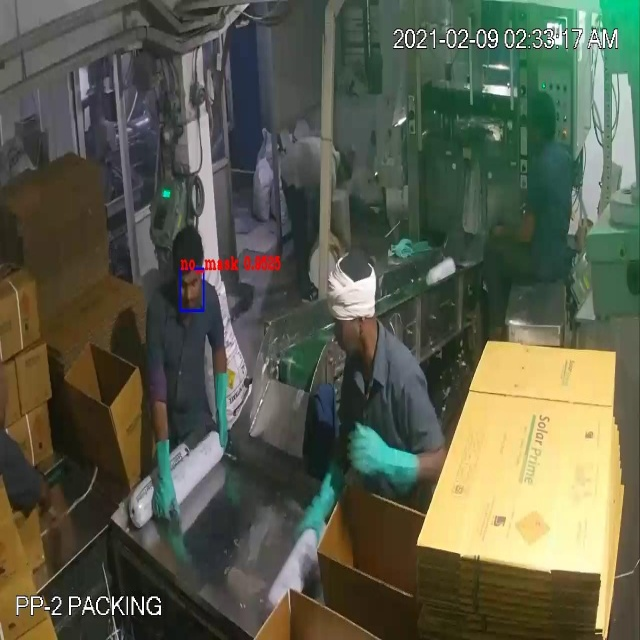Guantes: (134, 415, 194, 546), (290, 460, 355, 553), (348, 422, 421, 503), (204, 360, 244, 466)
Sin_guantes: (484, 196, 540, 252)
